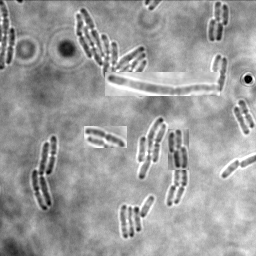Dividing: (105, 72, 220, 96), (84, 126, 127, 148), (238, 99, 255, 128), (175, 170, 189, 204), (209, 54, 222, 90), (217, 56, 228, 92), (7, 27, 17, 64)
Microcolony: (76, 7, 147, 98), (137, 117, 168, 180), (32, 135, 57, 211), (120, 195, 155, 238), (208, 1, 229, 42), (168, 129, 189, 170)
Rod: (233, 106, 251, 135), (222, 157, 240, 178), (167, 184, 177, 206), (174, 170, 183, 187)
